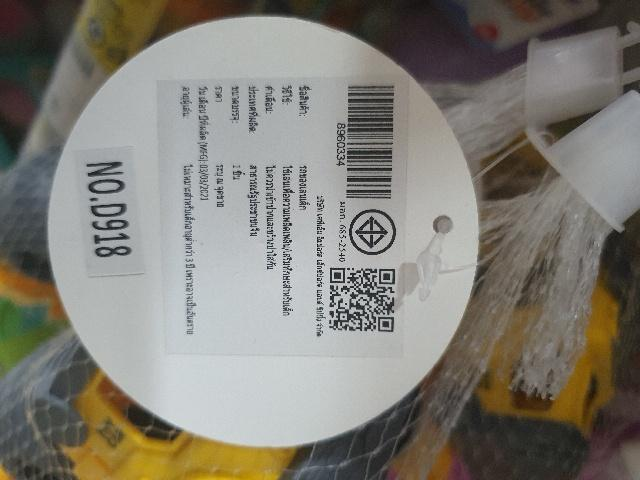Barcode: (335, 78, 401, 208)
